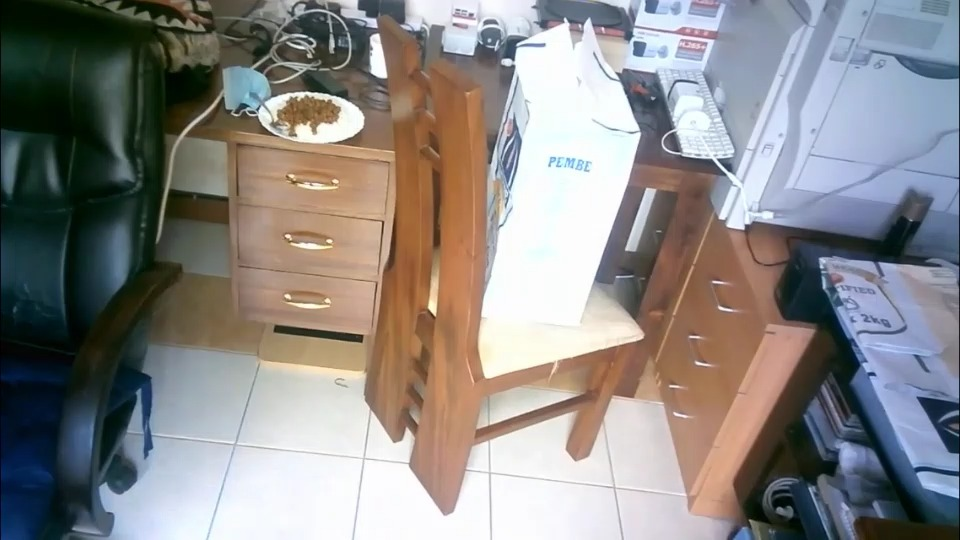wheat_flour_blue_label: (482, 44, 637, 324)
